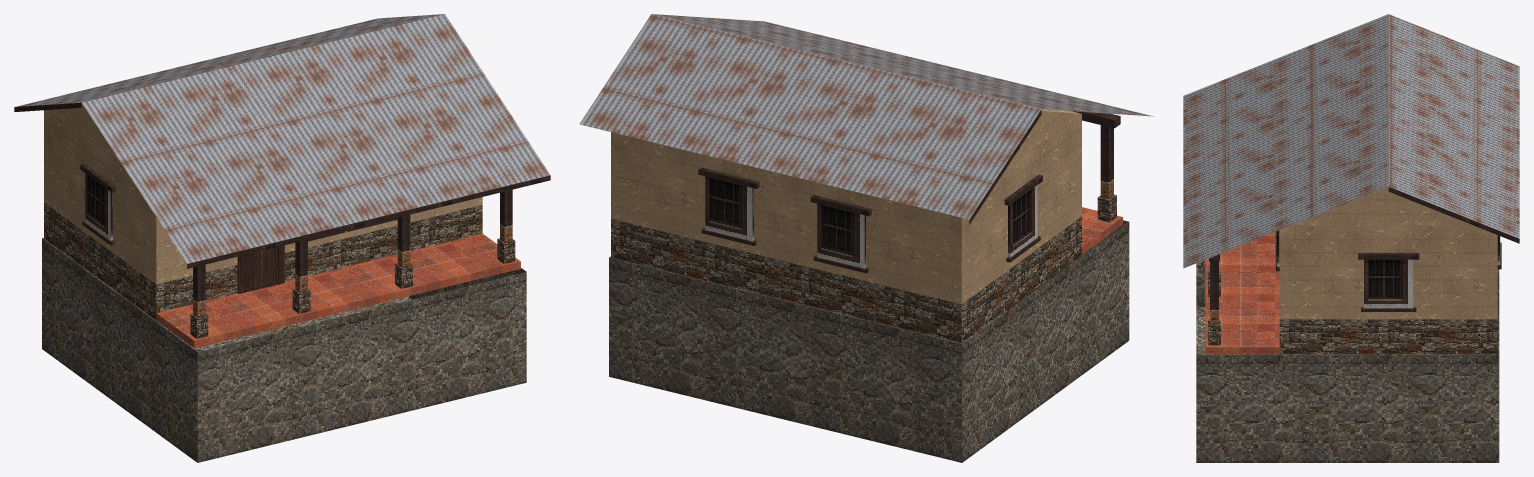
Rendered from 05_quincha_larga_calamina.glb.
3 renders of one model, left to right at view 1: azimuth 30°, elevation 25°; view 2: azimuth 150°, elevation 25°; view 3: azimuth 270°, elevation 25°, orthographic. The views are drawn at different scales.
Parts seen in each view (by area): view 1: 05_quincha_larga_calamina; view 2: 05_quincha_larga_calamina; view 3: 05_quincha_larga_calamina.
Part boxes in pixels (x1,y1,x2,y2): 05_quincha_larga_calamina: (14, 14, 550, 462); 05_quincha_larga_calamina: (579, 14, 1153, 462); 05_quincha_larga_calamina: (1183, 14, 1519, 462).
Bounding box in the file's own units: 8.24 × 6.33 × 6.78.
Materials: 9 (9 with a texture image).
